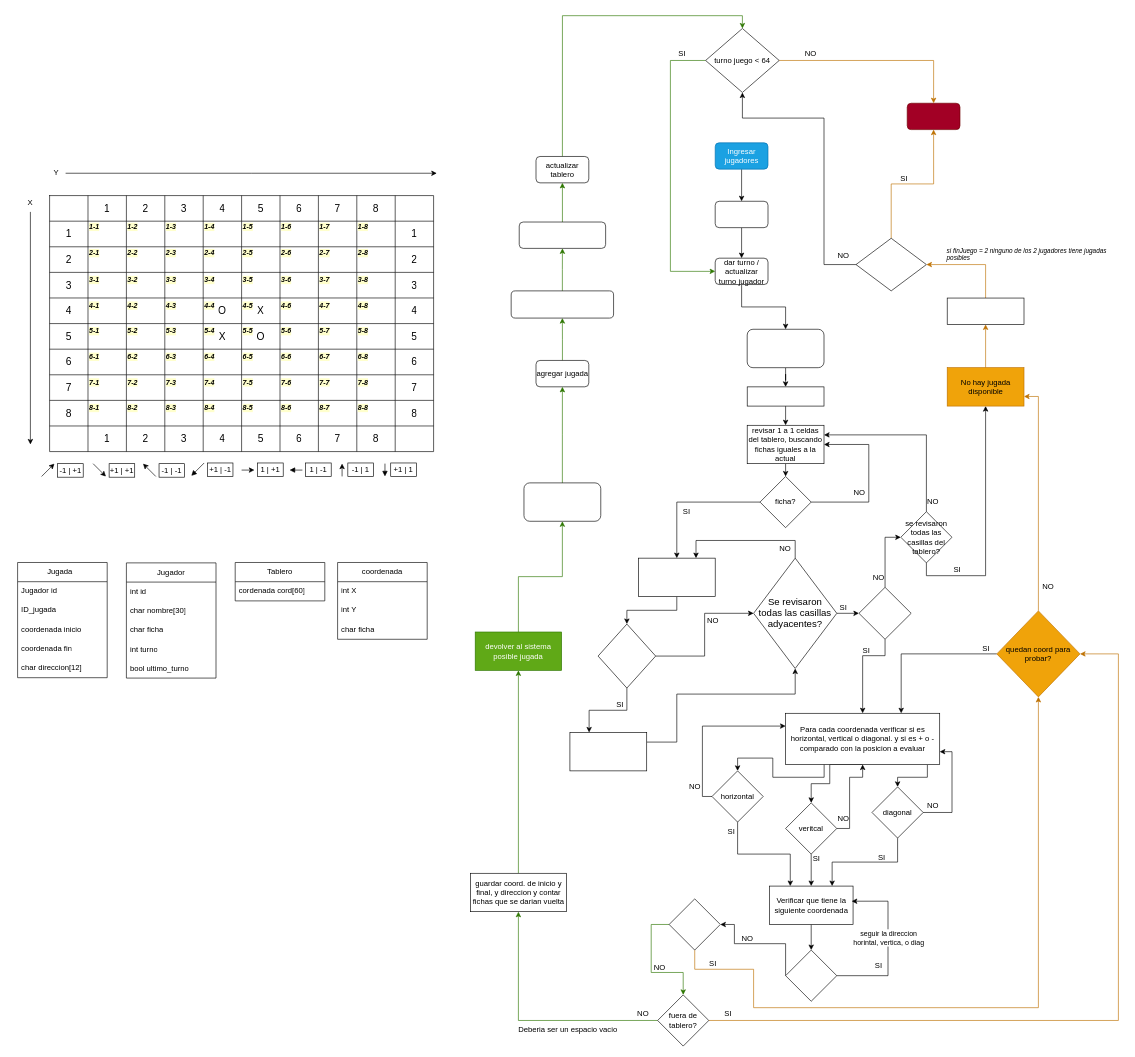
Image size: 1135x1057. Some labels were removed from this diagram. Each missing label, with the centre of its shape:
actualizar contador de fichas a favor: pixel 562 234
agregar 1 a finJuego: pixel 985 310
ficha del jugador actual: pixel 785 396
FIN JUEGO = 2: pixel 890 264
guardar coordenadas: pixel 608 751
hay coorde-nadas?: pixel 884 613
hay ficha distinta a la actual?: pixel 626 655
Iniciar tablero: pixel 741 214
Jugadas posibles: pixel 785 348
Limpiar jugadas posibles: pixel 562 501
Resetear finJuego a 0: pixel 562 304
revisar casillas adyacentes en las 8 direcciones posibles: pixel 676 577
Terminar juego: pixel 933 116
tiene ficha contraria?: pixel 811 975
tiene ficha propia?: pixel 694 924
